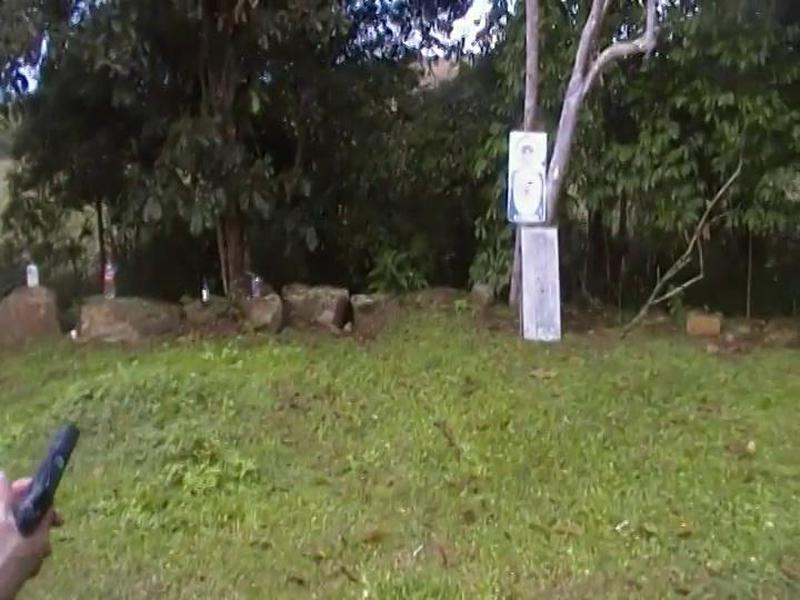Pistola: (1, 418, 90, 536)
